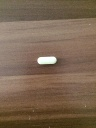Aferin: (36, 56, 58, 65)
